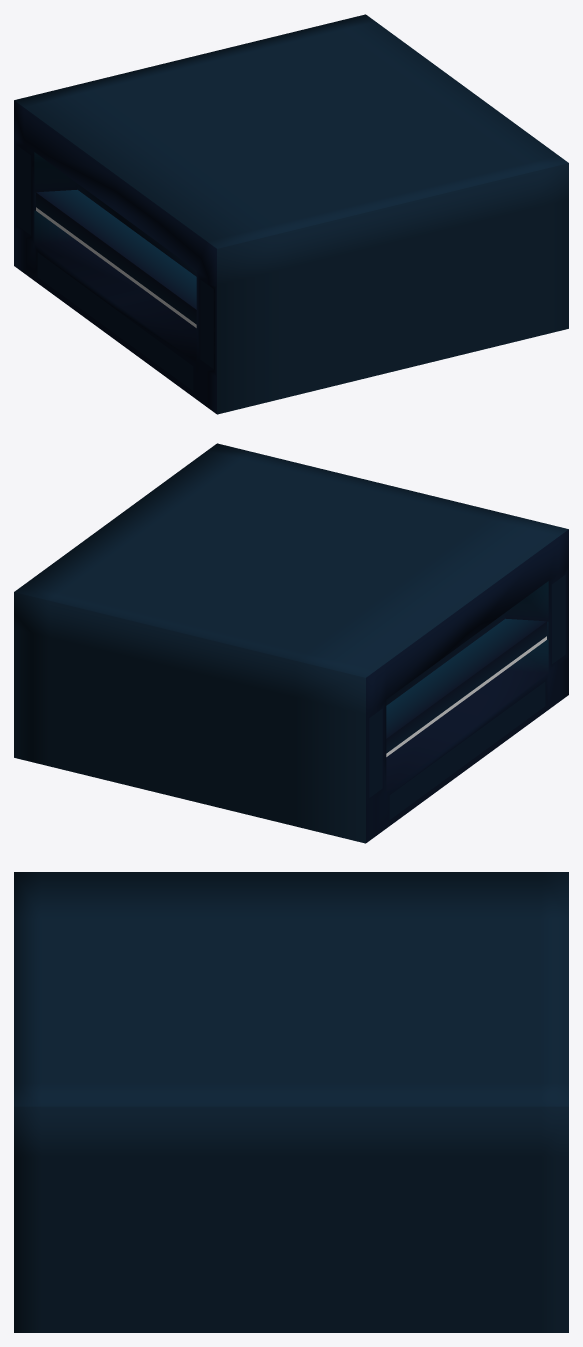
Rendered from MiddleFloor.fbx.
3 views of the same model, one above another, from view 1: azimuth 30°, elevation 25°; view 2: azimuth 150°, elevation 25°; view 3: azimuth 270°, elevation 25° (orthographic). The views are drawn at different scales.
Visible parts, largest first — view 1: Plane.025, Cube.043; view 2: Plane.025, Cube.043; view 3: Plane.025.
Part boxes in pixels (box(x1,y1,x2,y2)): Plane.025: box(14, 14, 568, 414); Cube.043: box(36, 207, 196, 327); Plane.025: box(14, 443, 568, 843); Cube.043: box(386, 636, 546, 756); Plane.025: box(14, 872, 568, 1332).
Bounding box in the file's own units: 1000 × 450 × 1000.
